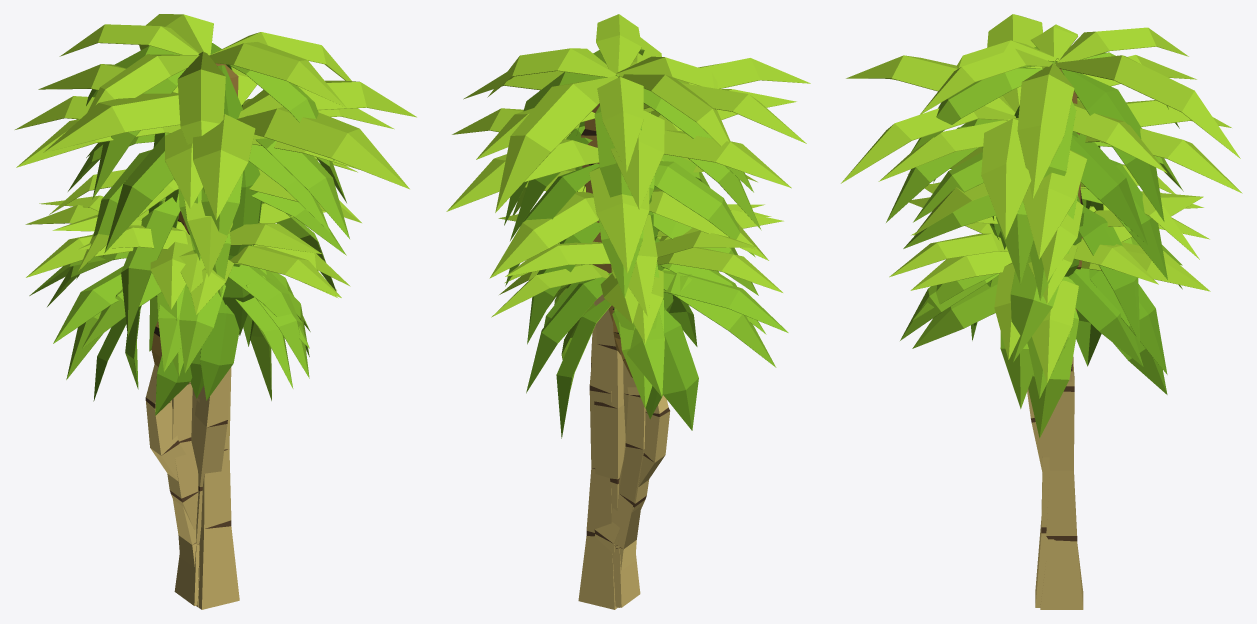
File: CoconutPalmTree_G.fbx
3 renders of one model, left to right at view 1: azimuth 30°, elevation 25°; view 2: azimuth 150°, elevation 25°; view 3: azimuth 270°, elevation 25°, orthographic. The views are drawn at different scales.
Visible parts, largest first — view 1: CoconutPalmTree_08, CoconutPalmTree_05, CoconutPalmTree_02, CoconutPalmTree_03, CoconutPalmTree_01, CoconutPalmTree_07, CoconutPalmTree_04; view 2: CoconutPalmTree_05, CoconutPalmTree_04, CoconutPalmTree_07, CoconutPalmTree_08, CoconutPalmTree_03, CoconutPalmTree_02, CoconutPalmTree_01; view 3: CoconutPalmTree_08, CoconutPalmTree_05, CoconutPalmTree_04, CoconutPalmTree_07, CoconutPalmTree_02, CoconutPalmTree_01, CoconutPalmTree_03.
Part boxes in pixels (x1,y1,x2,y2): CoconutPalmTree_08: (38, 64, 416, 260); CoconutPalmTree_05: (59, 14, 351, 609); CoconutPalmTree_02: (49, 156, 361, 605); CoconutPalmTree_03: (25, 200, 326, 529); CoconutPalmTree_01: (77, 210, 350, 567); CoconutPalmTree_07: (29, 195, 338, 523); CoconutPalmTree_04: (15, 96, 394, 607); CoconutPalmTree_05: (487, 14, 753, 607); CoconutPalmTree_04: (446, 89, 796, 607); CoconutPalmTree_07: (491, 204, 788, 555); CoconutPalmTree_08: (463, 37, 810, 609); CoconutPalmTree_03: (498, 210, 783, 548); CoconutPalmTree_02: (489, 157, 768, 607); CoconutPalmTree_01: (504, 211, 771, 570); CoconutPalmTree_08: (841, 14, 1196, 609); CoconutPalmTree_05: (911, 24, 1240, 607); CoconutPalmTree_04: (878, 46, 1242, 473); CoconutPalmTree_07: (910, 184, 1210, 438); CoconutPalmTree_02: (903, 146, 1199, 471); CoconutPalmTree_01: (889, 197, 1158, 408); CoconutPalmTree_03: (911, 182, 1209, 398).
Size of the model in its own units: 907 by 1317 by 862.
